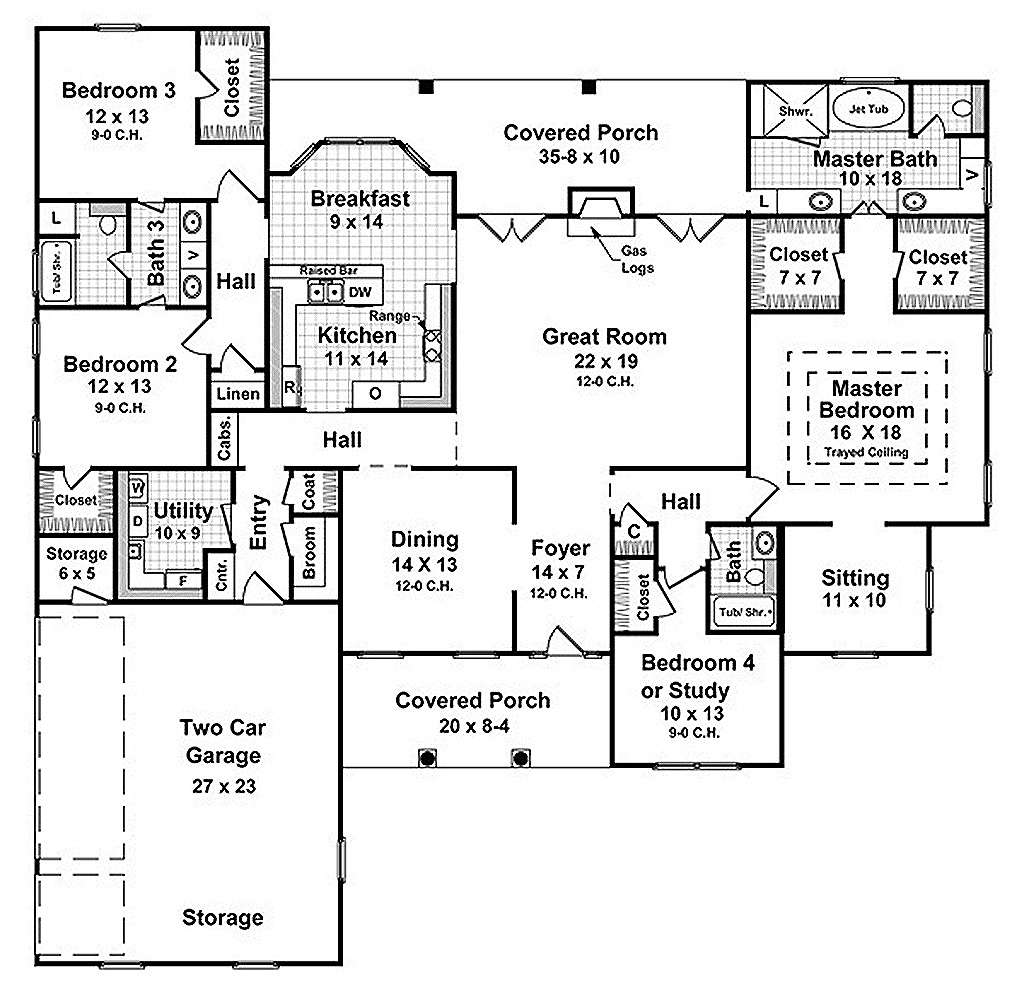door: (651, 209, 726, 246), (477, 206, 546, 243), (213, 340, 265, 380), (209, 164, 258, 206), (538, 626, 594, 661), (744, 469, 786, 514), (663, 558, 704, 594), (180, 315, 213, 356), (236, 572, 280, 602), (653, 573, 676, 623), (57, 462, 97, 489), (104, 251, 135, 285)
small_sink: (899, 184, 969, 219), (777, 183, 843, 220)
tub: (828, 76, 909, 138), (706, 595, 782, 641), (37, 238, 79, 304)
twin_sink: (295, 275, 356, 311)
window: (294, 132, 429, 170), (647, 758, 742, 779), (919, 564, 940, 628), (978, 451, 999, 515), (353, 647, 414, 668), (829, 645, 878, 668), (979, 326, 995, 382), (91, 21, 149, 36)
